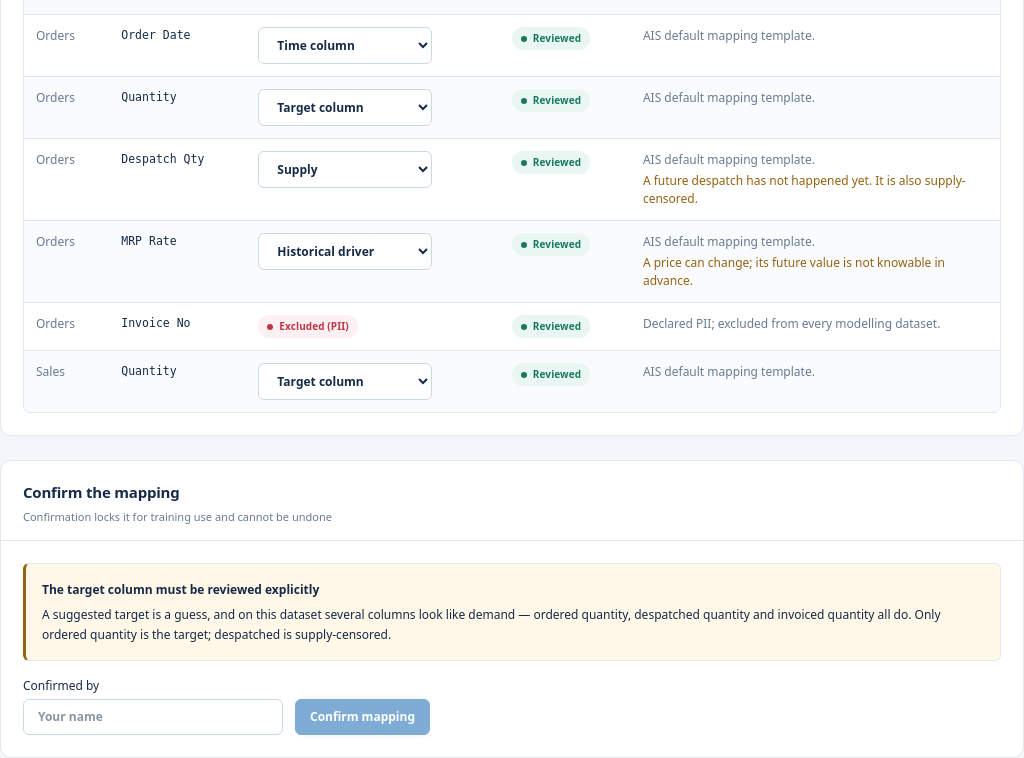
RoleEditor › still requires a name before confirming a reviewed mapping
(page scrolled)
Check: the button "Confirm mapping" is disabled, box [295, 699, 430, 735]
Type "planner" into the field labelled "Confirmed by".
click(153, 717); type("planner")  # box [23, 699, 283, 735]
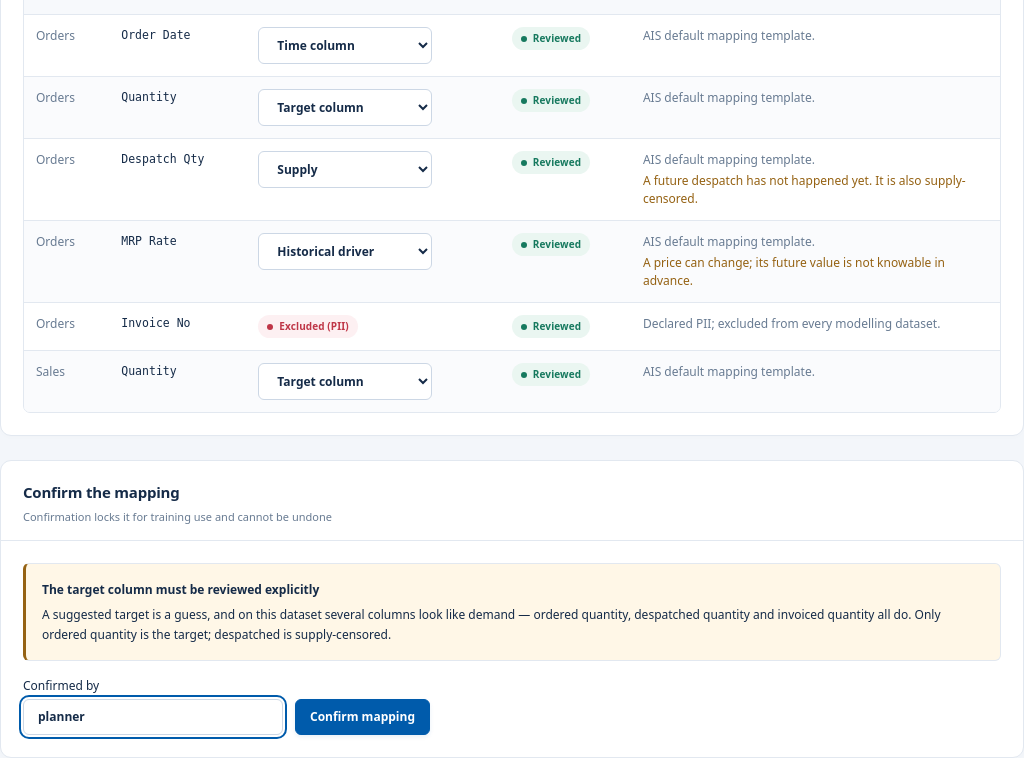
Check: the button "Confirm mapping" is enabled, box [295, 699, 430, 735]
